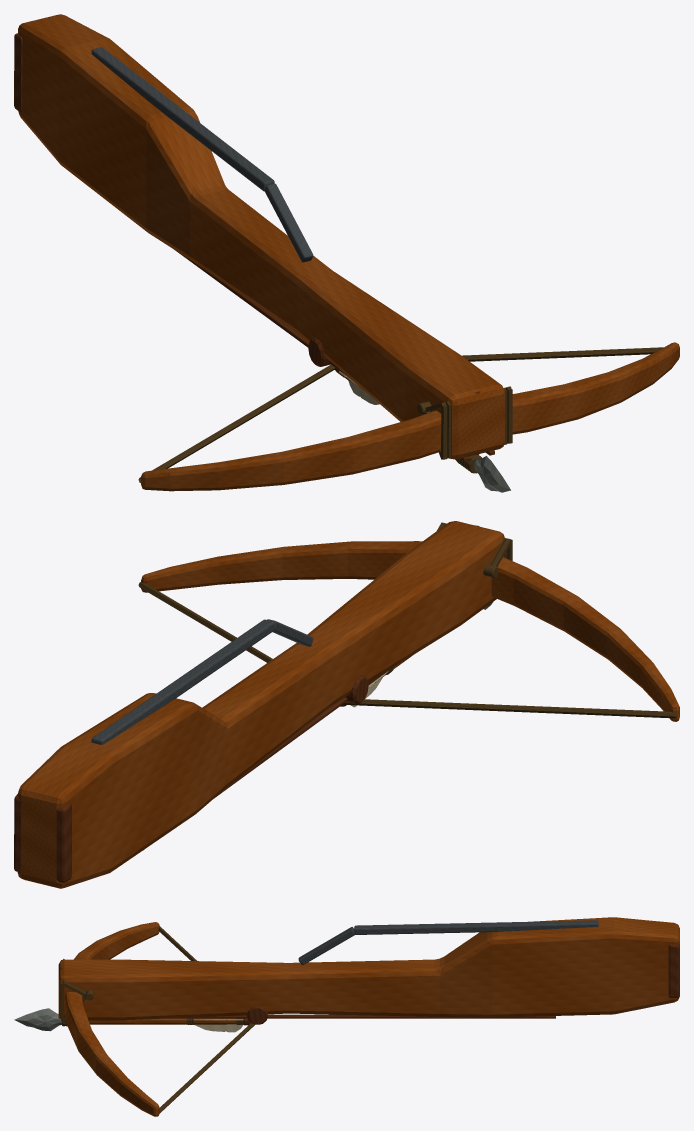
File: AuxiliaImprovisedCrossbowCockedStoneBolt.fbx
3 views of the same model, one above another, from view 1: azimuth 30°, elevation 25°; view 2: azimuth 150°, elevation 25°; view 3: azimuth 270°, elevation 25° (orthographic). The views are drawn at different scales.
Parts seen in each view (by area): view 1: AuxiliaImprovisedCrossbowCockedStoneBolt_GameExport; view 2: AuxiliaImprovisedCrossbowCockedStoneBolt_GameExport; view 3: AuxiliaImprovisedCrossbowCockedStoneBolt_GameExport.
Part boxes in pixels (<box>): AuxiliaImprovisedCrossbowCockedStoneBolt_GameExport: <box>14,14,679,492</box>; AuxiliaImprovisedCrossbowCockedStoneBolt_GameExport: <box>14,521,679,888</box>; AuxiliaImprovisedCrossbowCockedStoneBolt_GameExport: <box>14,917,679,1116</box>.
Size of the model in its own units: 22.61 by 34.4 by 6.29.
